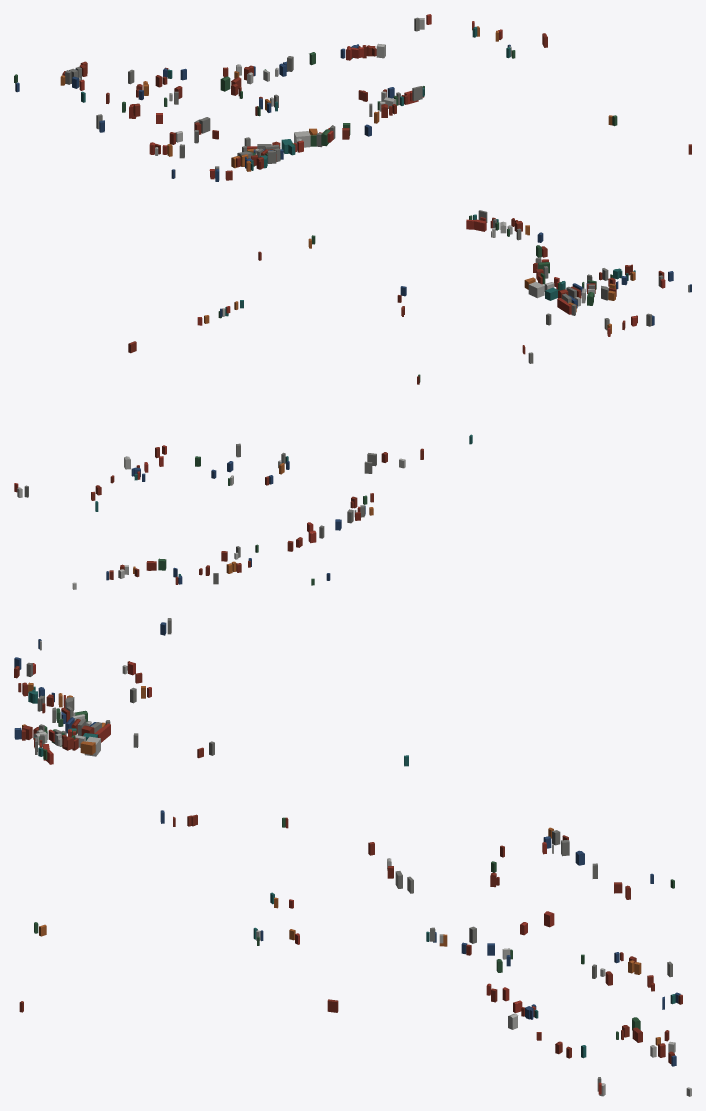
Rendered from near-15-27366-14866.470afe36.glb.
The picture shows the model from 3 angles, top to bottom: view 1: azimuth 30°, elevation 25°; view 2: azimuth 150°, elevation 25°; view 3: azimuth 270°, elevation 25°; orthographic projection. The views are drawn at different scales.
Size of the model in its own units: 1134 by 513 by 1168.
